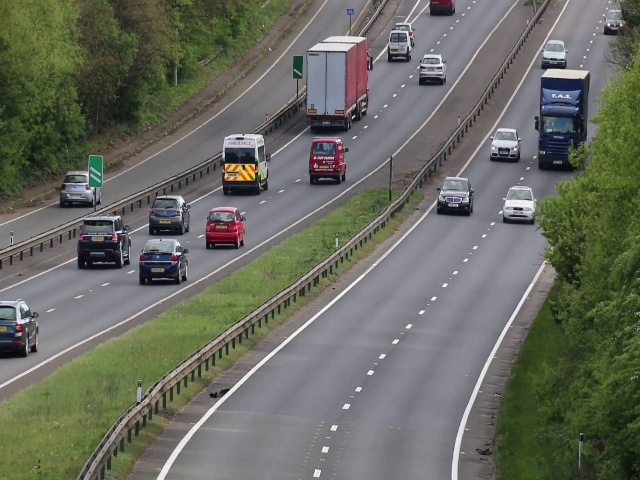car: (220, 130, 272, 196), (75, 215, 131, 270), (140, 236, 189, 287), (1, 296, 40, 355), (310, 134, 349, 188), (435, 171, 474, 219), (147, 193, 192, 234), (59, 168, 104, 207), (206, 208, 246, 250), (502, 183, 534, 226), (489, 127, 521, 162), (387, 29, 413, 65), (422, 50, 446, 88), (540, 38, 568, 68), (605, 8, 623, 34)
